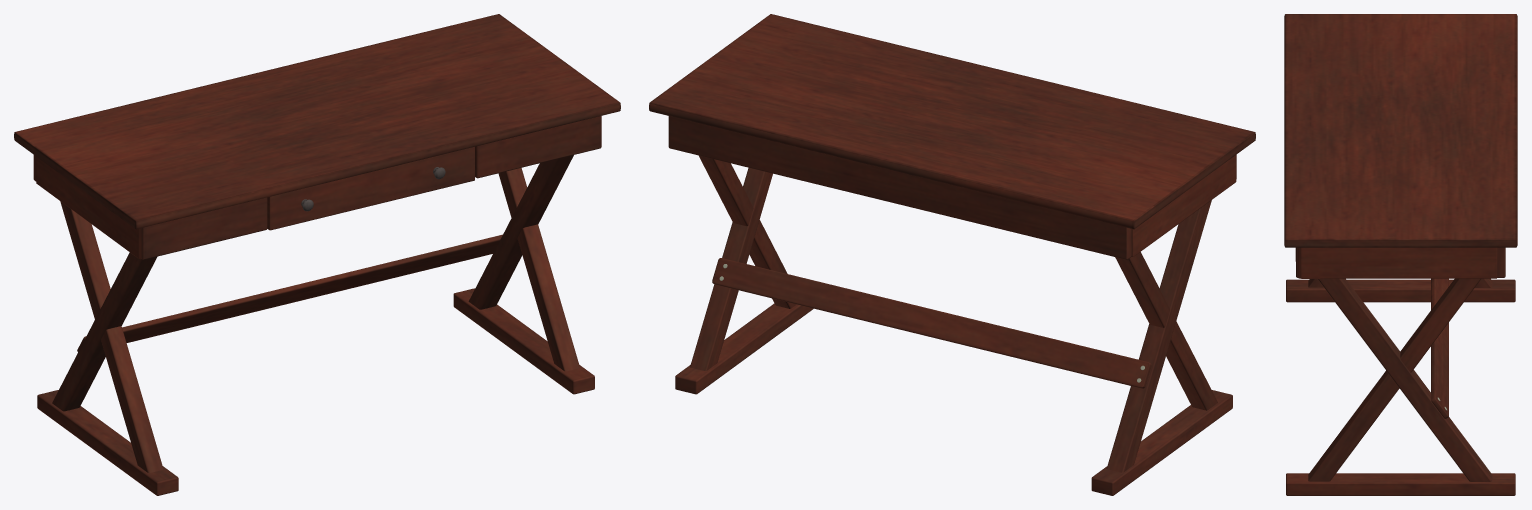
3 views of the same model, side by side, from view 1: azimuth 30°, elevation 25°; view 2: azimuth 150°, elevation 25°; view 3: azimuth 270°, elevation 25° (orthographic). The views are drawn at different scales.
Visible parts, largest first — view 1: visual_RootNode; view 2: visual_RootNode; view 3: visual_RootNode.
Boxes of the visible parts, x1=… form: visual_RootNode: x1=14, y1=14, x2=620, y2=495; visual_RootNode: x1=649, y1=14, x2=1255, y2=495; visual_RootNode: x1=1284, y1=14, x2=1517, y2=495.
Size of the model in its own units: 1.37 by 0.5997 by 0.7612.
1 material, 1 textured.
